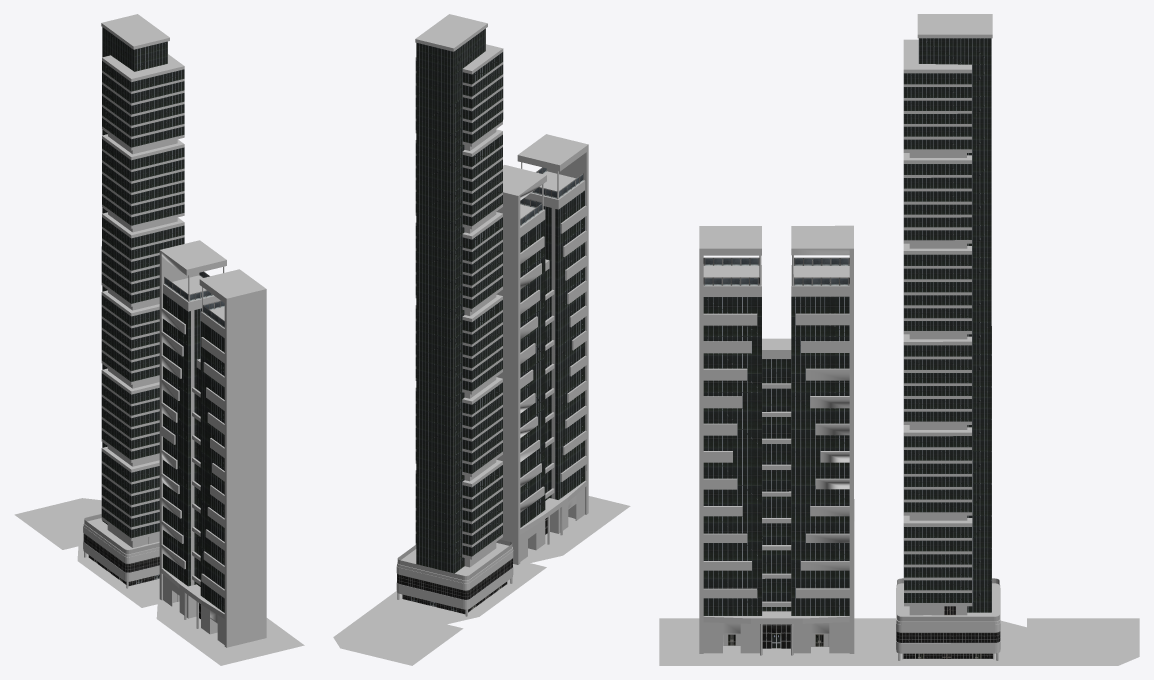
File: Main Bulding & side.fbx
The picture shows the model from 3 angles, left to right: view 1: azimuth 30°, elevation 25°; view 2: azimuth 150°, elevation 25°; view 3: azimuth 270°, elevation 25°; orthographic projection. The views are drawn at different scales.
Parts seen in each view (by area): view 1: BC_P06, EC_034, EC_027_Clone_1, EC_035_Clone_1, EC_027_Clone_; view 2: EC_034, BC_P06, EC_035_Clone_1, EC_027_Clone_, EC_027_Clone_1; view 3: BC_P06, EC_034, EC_035_Clone_1, EC_027_Clone_1, EC_027_Clone_.
Boxes of the visible parts, x1,y1,x2,y2 form: BC_P06: (159,240,266,647); EC_034: (83,14,184,588); EC_027_Clone_1: (156,601,304,665); EC_035_Clone_1: (14,498,101,549); EC_027_Clone_: (77,545,165,607); EC_034: (396,14,513,616); BC_P06: (496,134,588,564); EC_035_Clone_1: (333,607,463,665); EC_027_Clone_: (375,561,546,624); EC_027_Clone_1: (522,496,630,562); BC_P06: (699,225,854,655); EC_034: (896,14,1000,660); EC_035_Clone_1: (1027,618,1139,665); EC_027_Clone_1: (659,618,842,665); EC_027_Clone_: (843,618,1026,665).
Size of the model in its own units: 2160 by 13128 by 9203.
